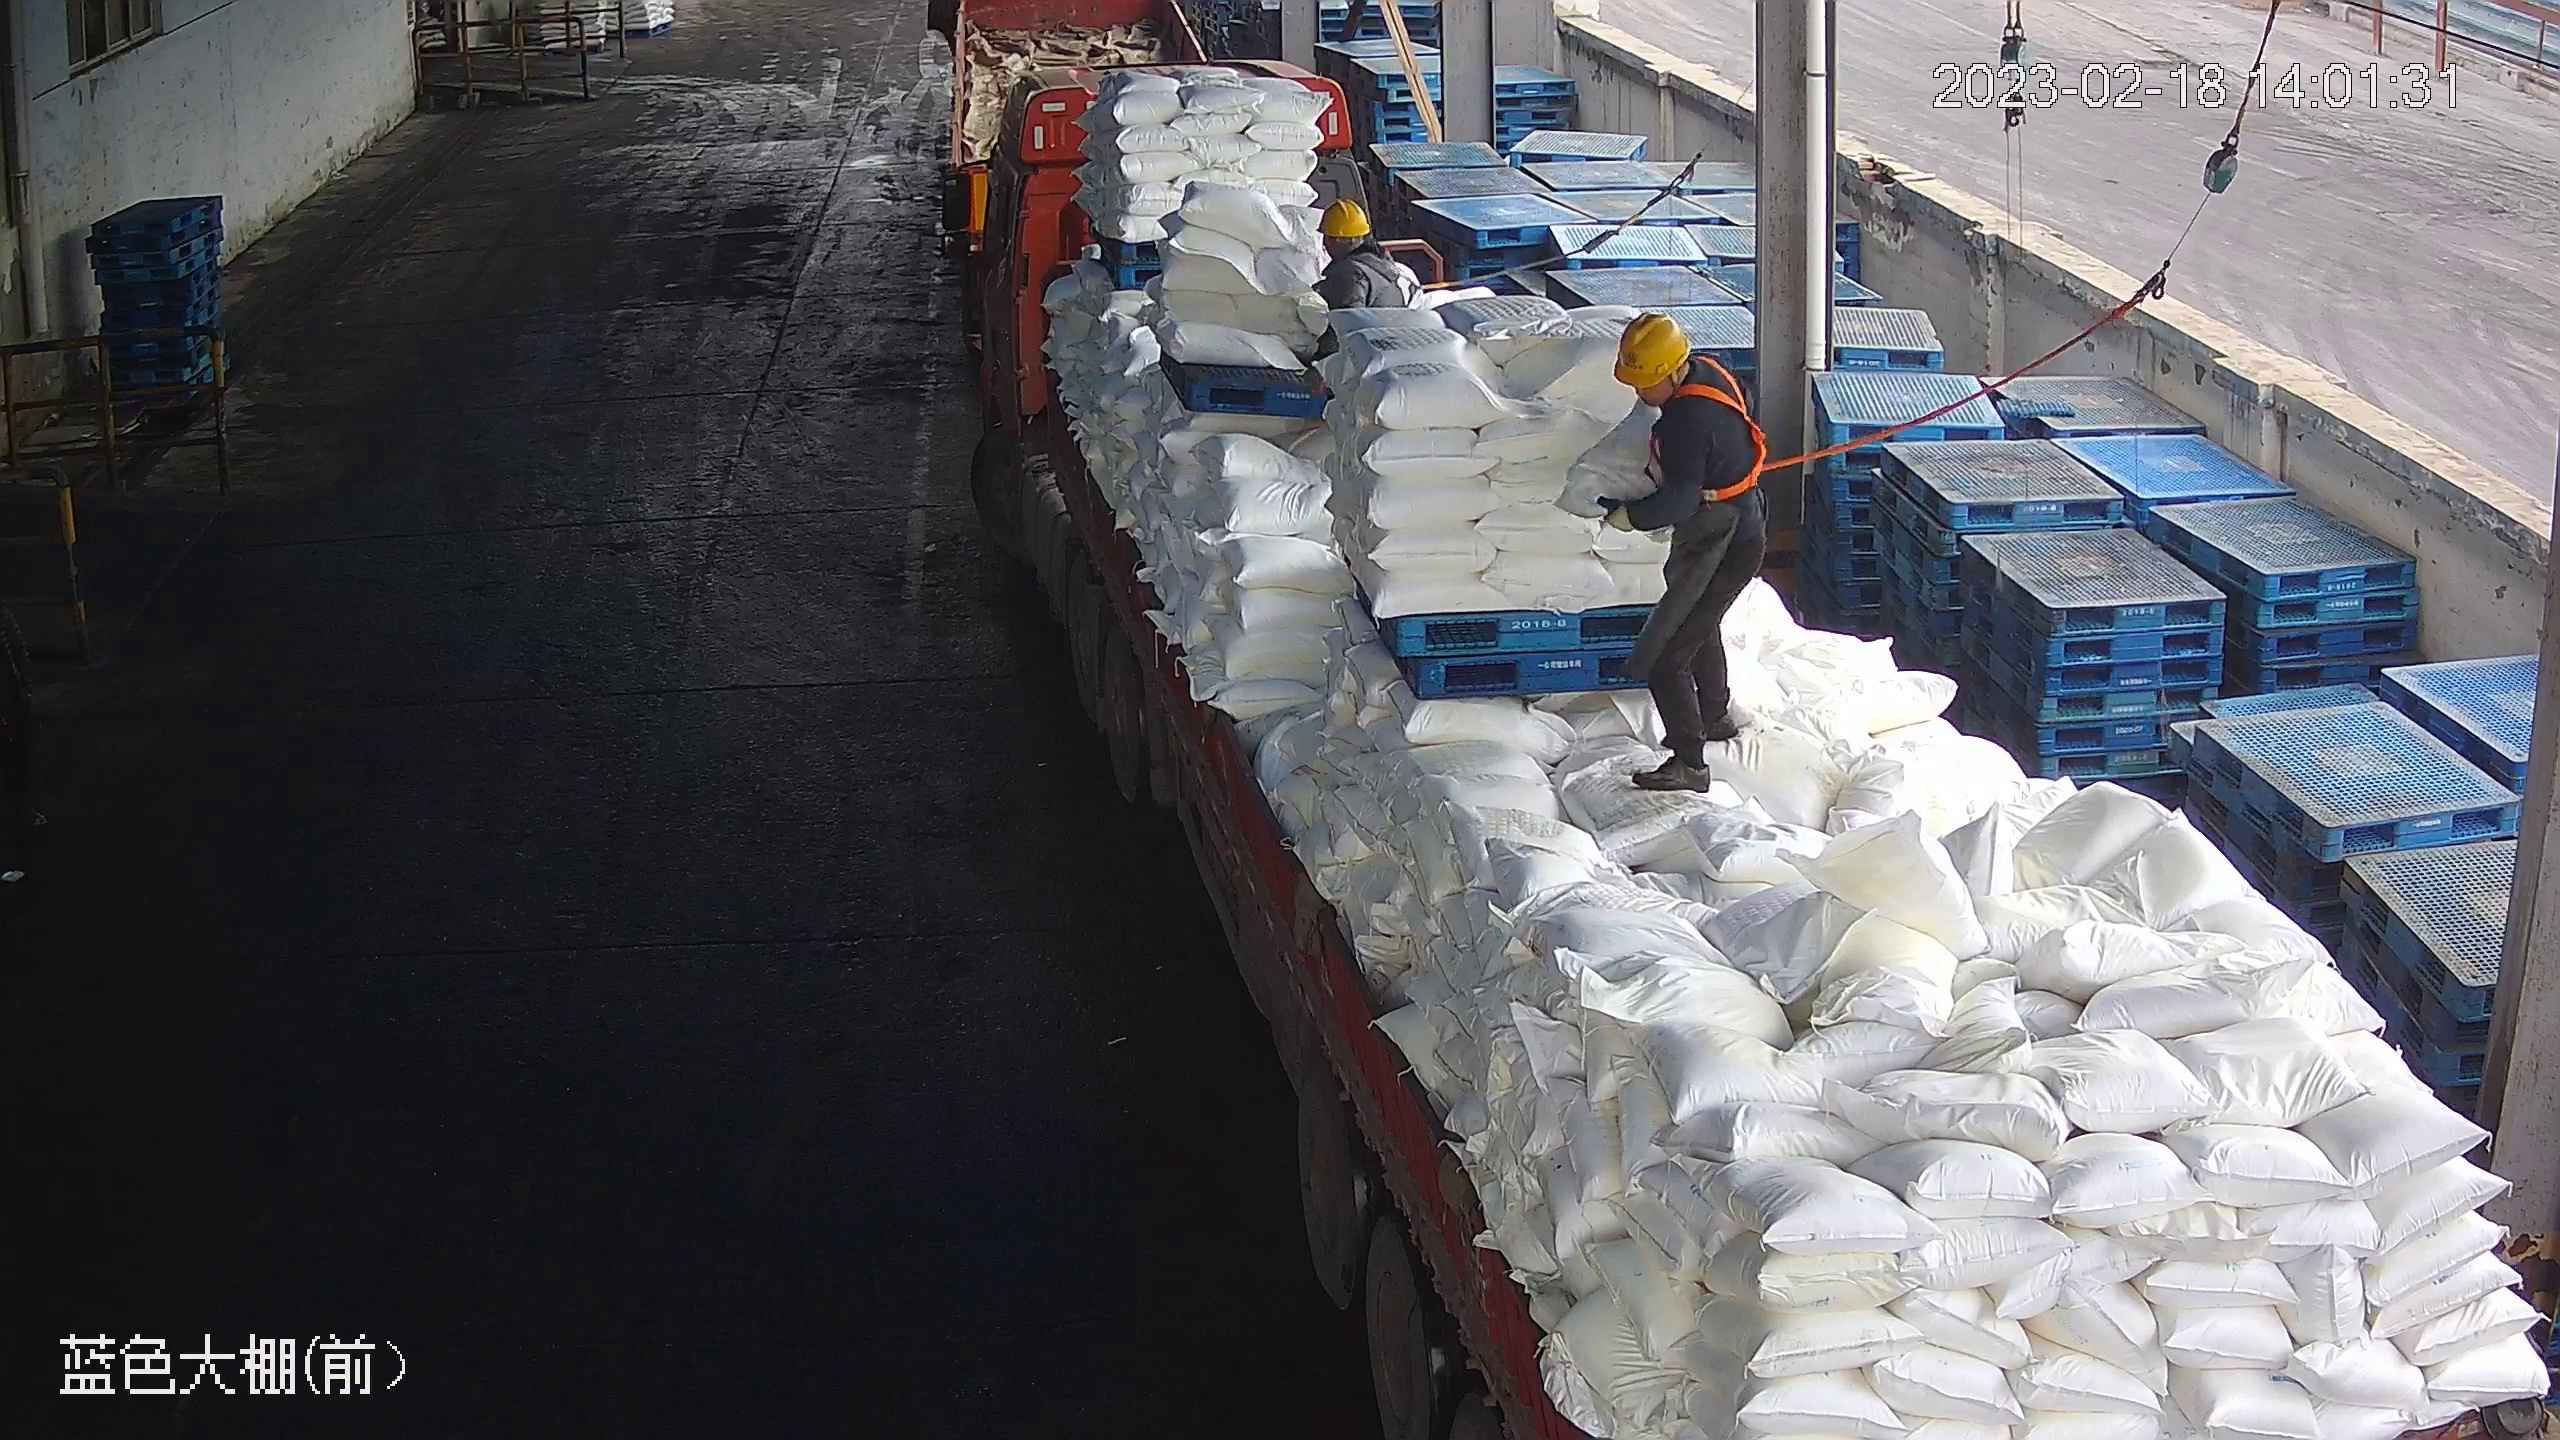belt: (1670, 361, 1789, 508), (1359, 244, 1402, 311)
head: (1601, 309, 1757, 456), (1314, 196, 1407, 286)
helmet: (1612, 309, 1694, 388), (1315, 195, 1373, 238)
people: (1590, 309, 1768, 801)
truck: (934, 57, 2555, 1439)
